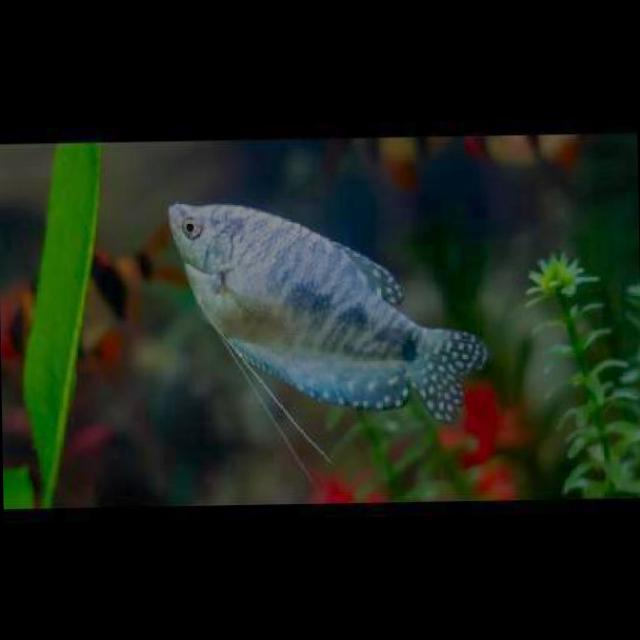Gourami: (166, 193, 487, 424)
